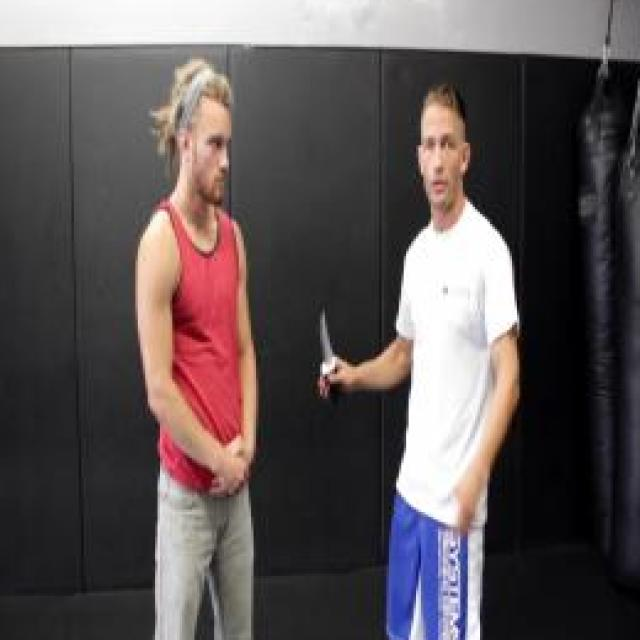knife: (310, 293, 352, 415)
